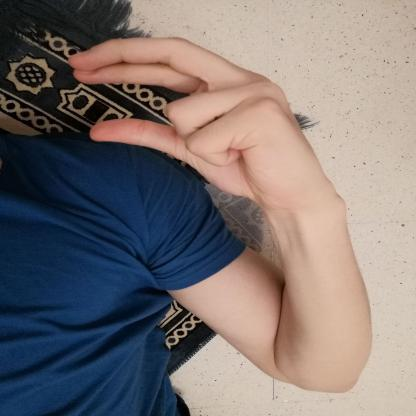DHELL: (50, 26, 320, 214)
